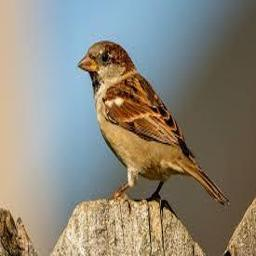Sparrow: (77, 41, 230, 206)
